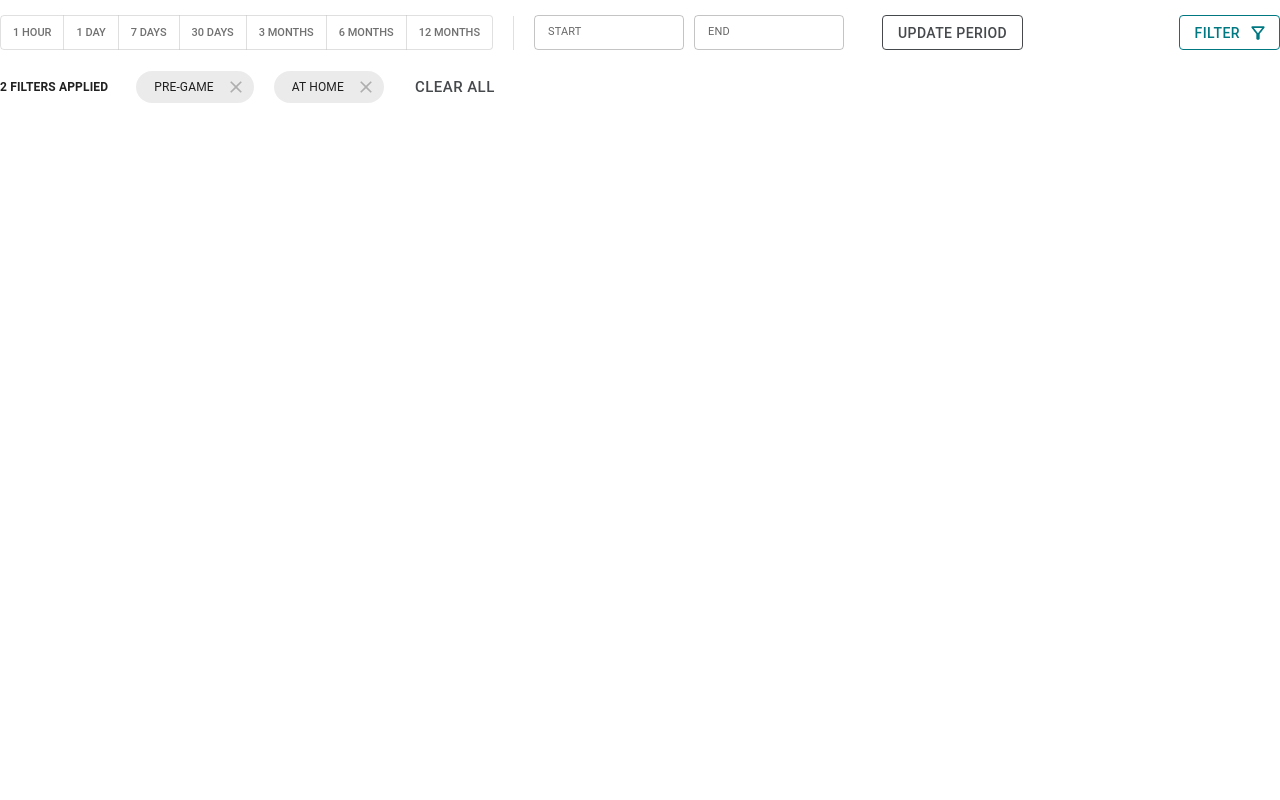
it: UiFilters › should open and close the modal when clicking the Filter button
The width and height of the screenshot is (1280, 800).
# Open Modal
Click the button "FILTER": [1229, 33] box [1179, 15, 1279, 50]
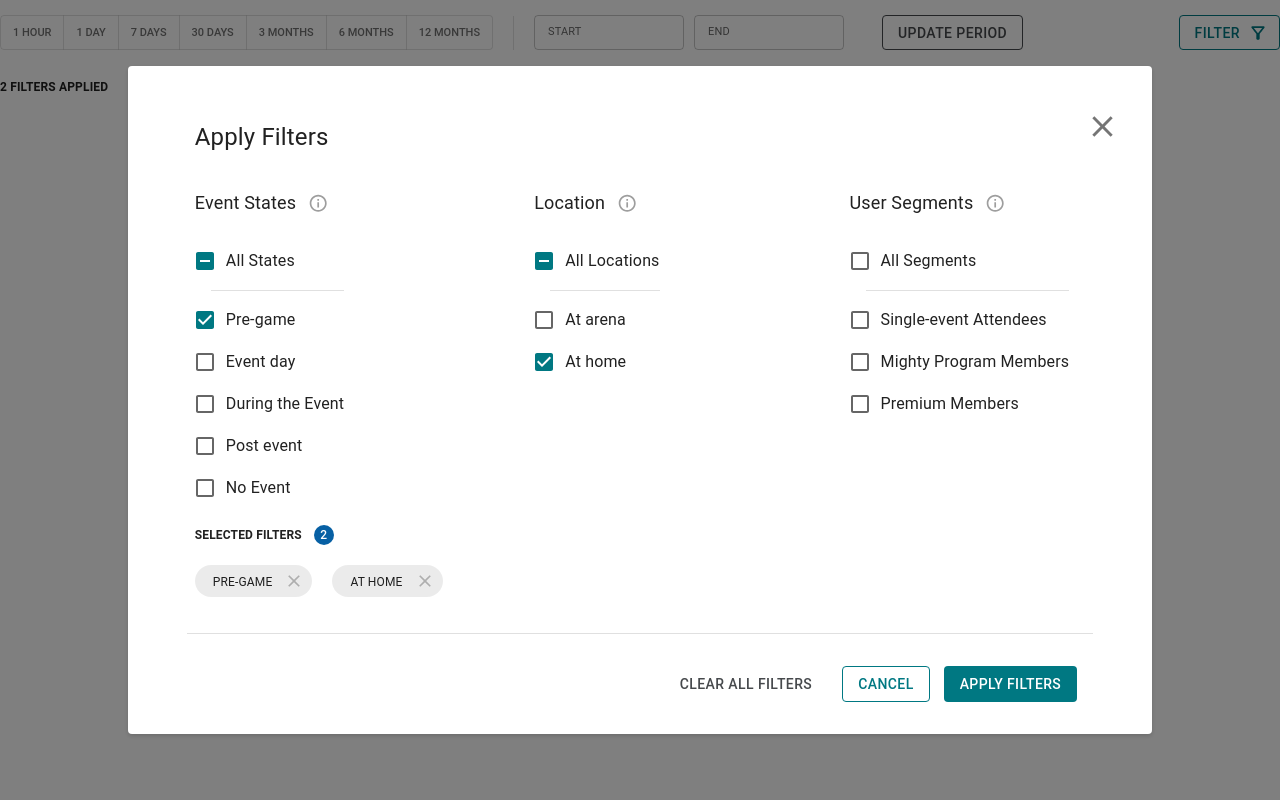
Now the dialog is shown
Now the button "CANCEL" is shown
Click the button "CANCEL": [886, 684] box [842, 666, 930, 702]
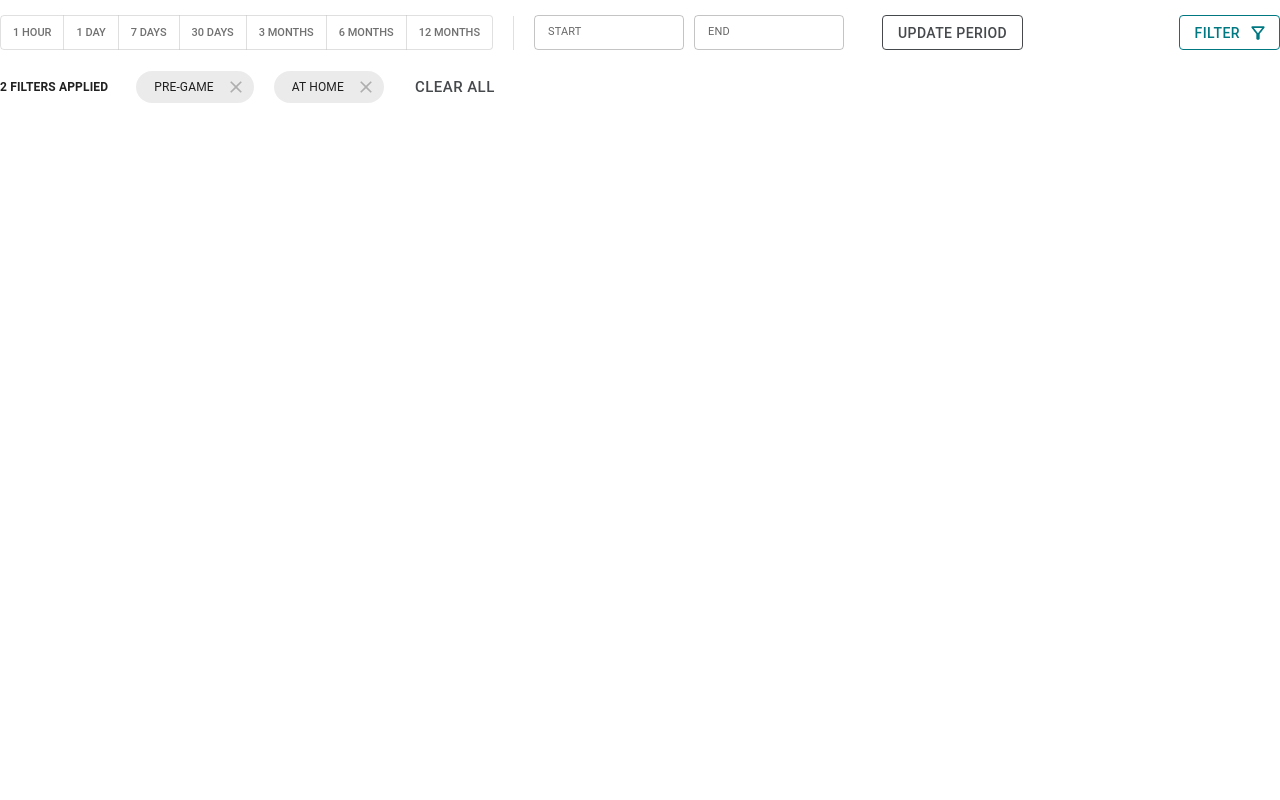
Now the dialog is gone
